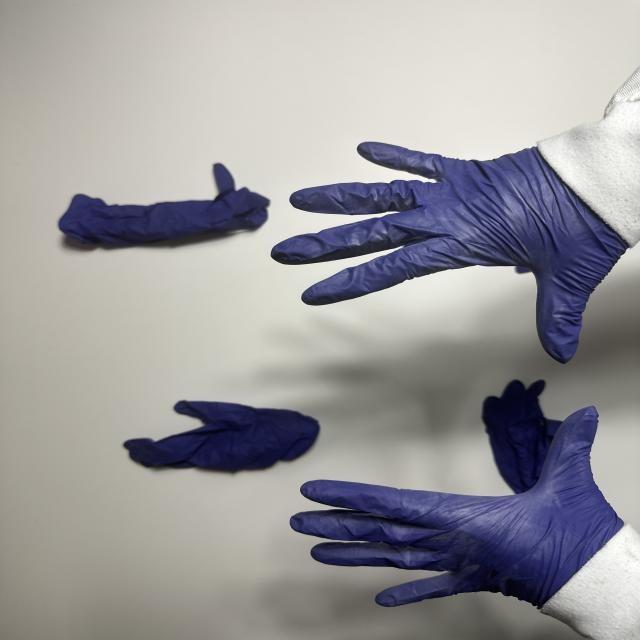gloves_contaminated: (272, 142, 626, 363), (290, 407, 629, 608)
